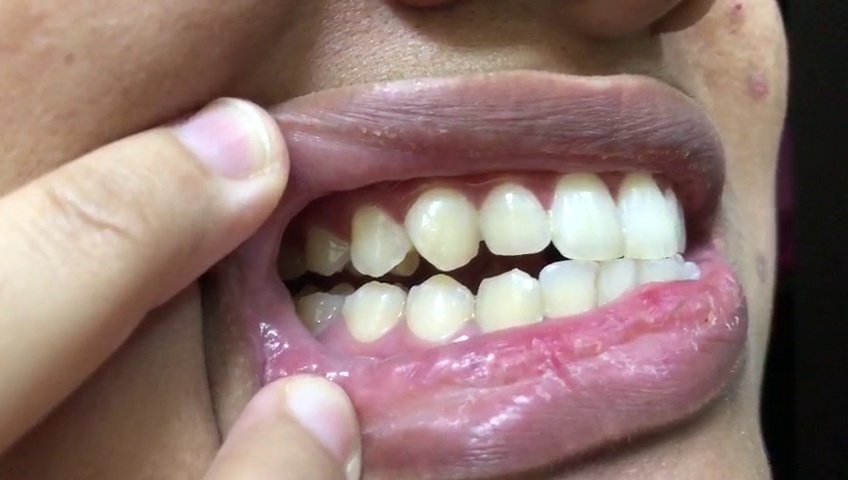1st Molar: (298, 293, 340, 336)
1st Premolar: (408, 273, 475, 340), (351, 204, 414, 275)
2nd Premolar: (342, 280, 406, 342), (307, 226, 353, 277)
Canine: (405, 188, 477, 272), (475, 269, 542, 331)
Central Incisor: (549, 171, 624, 262), (615, 170, 674, 261)
Lateral Incisor: (479, 178, 550, 256), (539, 258, 597, 324)
